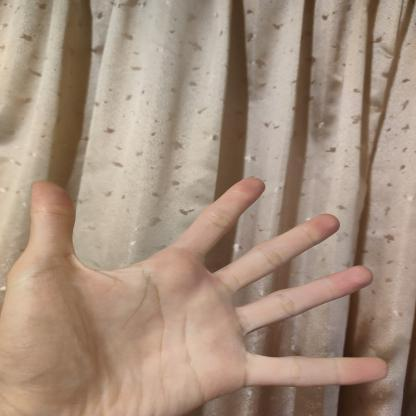bare_hand: (2, 167, 394, 416)
